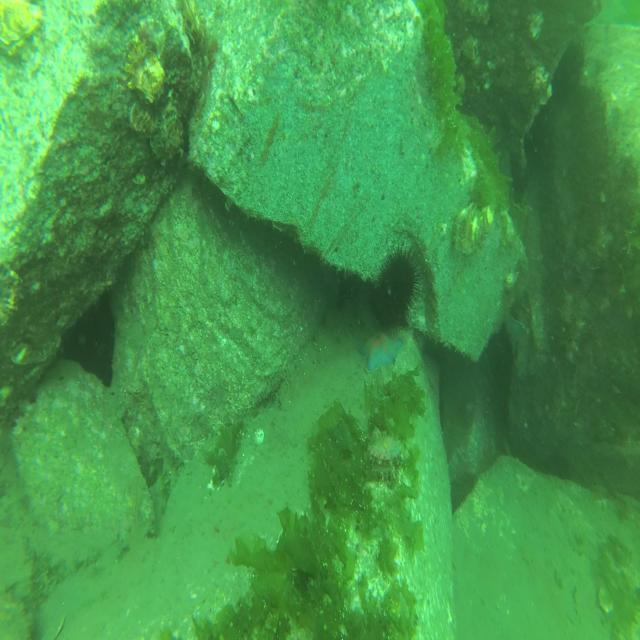echinus: (368, 249, 419, 331)
starfish: (355, 329, 406, 374)
